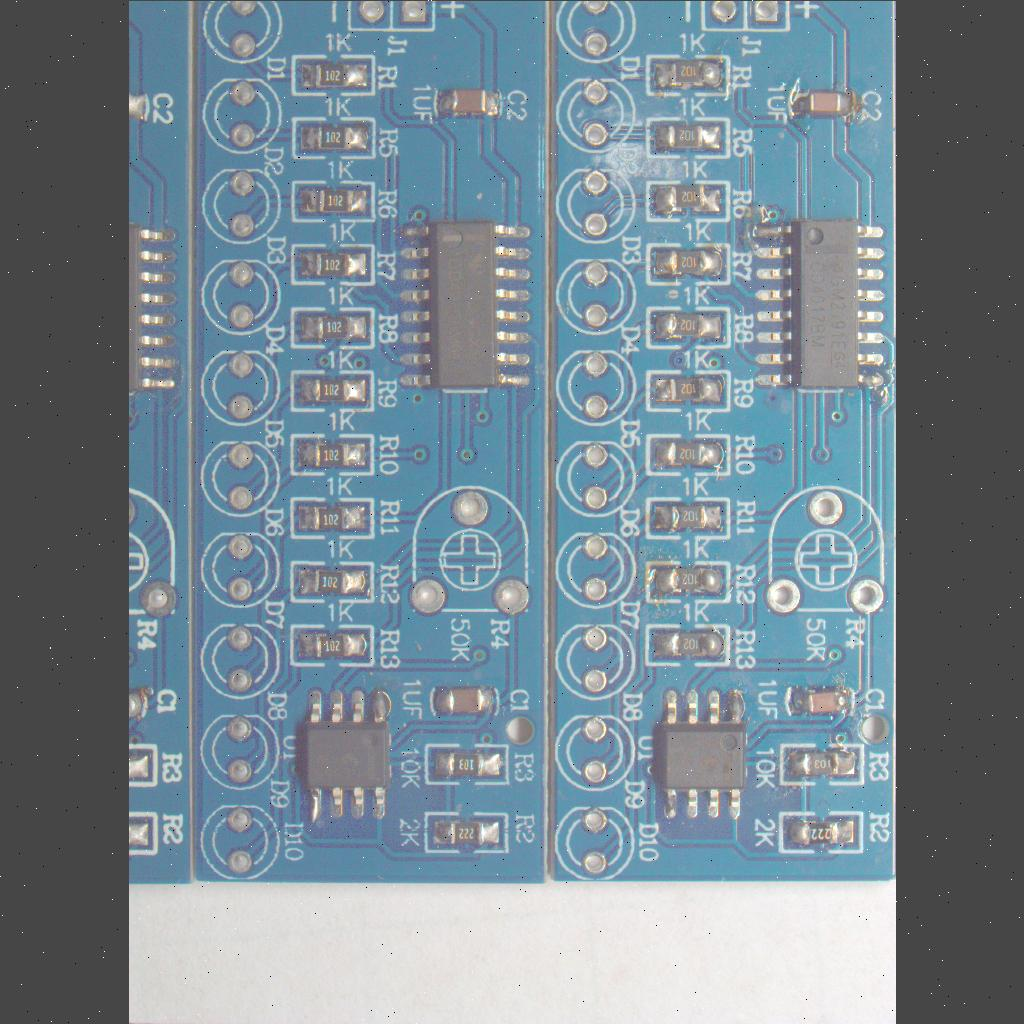OK: (744, 207, 894, 395), (392, 216, 540, 396), (649, 683, 757, 825), (294, 682, 398, 826), (640, 428, 736, 478), (641, 556, 733, 606), (642, 50, 734, 100), (773, 808, 867, 856), (288, 492, 378, 542), (777, 738, 867, 788), (287, 50, 377, 100), (642, 113, 734, 161), (289, 177, 377, 227), (286, 558, 380, 604), (286, 430, 376, 478), (642, 620, 732, 668), (286, 365, 376, 413), (289, 112, 379, 160), (644, 176, 734, 224), (644, 366, 734, 414), (643, 303, 733, 351), (286, 622, 378, 668), (422, 808, 510, 856), (422, 741, 512, 787), (287, 303, 377, 349), (642, 494, 732, 540), (643, 240, 733, 286), (287, 240, 375, 286), (781, 80, 863, 126), (781, 677, 861, 721), (423, 679, 505, 719), (431, 79, 509, 121), (129, 743, 157, 787), (128, 812, 156, 854)
